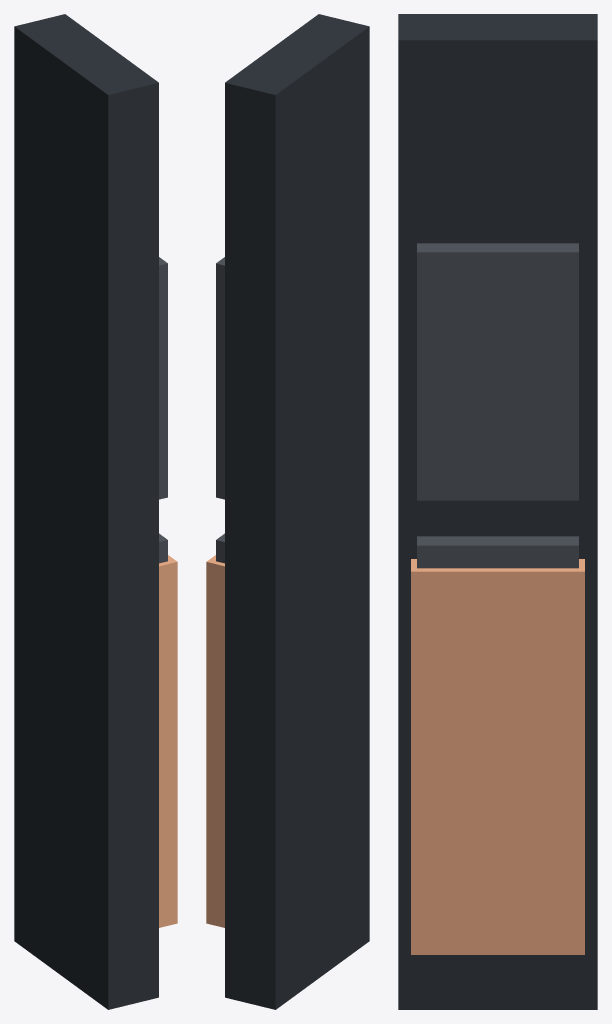
File: ssd_nvme.glb
The picture shows the model from 3 angles, left to right: view 1: azimuth 30°, elevation 25°; view 2: azimuth 150°, elevation 25°; view 3: azimuth 270°, elevation 25°; orthographic projection. The views are drawn at different scales.
Parts seen in each view (by area): view 1: SSD_PCB, SSD_Label, SSD_Chip1; view 2: SSD_PCB, SSD_Label, SSD_Chip1; view 3: SSD_PCB, SSD_Label, SSD_Chip1, SSD_Chip2.
Part boxes in pixels (<box>): SSD_PCB: <box>14,14,158,1009</box>; SSD_Label: <box>159,555,177,927</box>; SSD_Chip1: <box>159,257,167,499</box>; SSD_PCB: <box>225,14,369,1009</box>; SSD_Label: <box>206,555,224,927</box>; SSD_Chip1: <box>216,257,224,499</box>; SSD_PCB: <box>398,14,597,1009</box>; SSD_Label: <box>411,559,584,954</box>; SSD_Chip1: <box>417,243,578,500</box>; SSD_Chip2: <box>417,536,578,568</box>.
Bounding box in the file's own units: 0.074 × 0.86 × 0.16.
